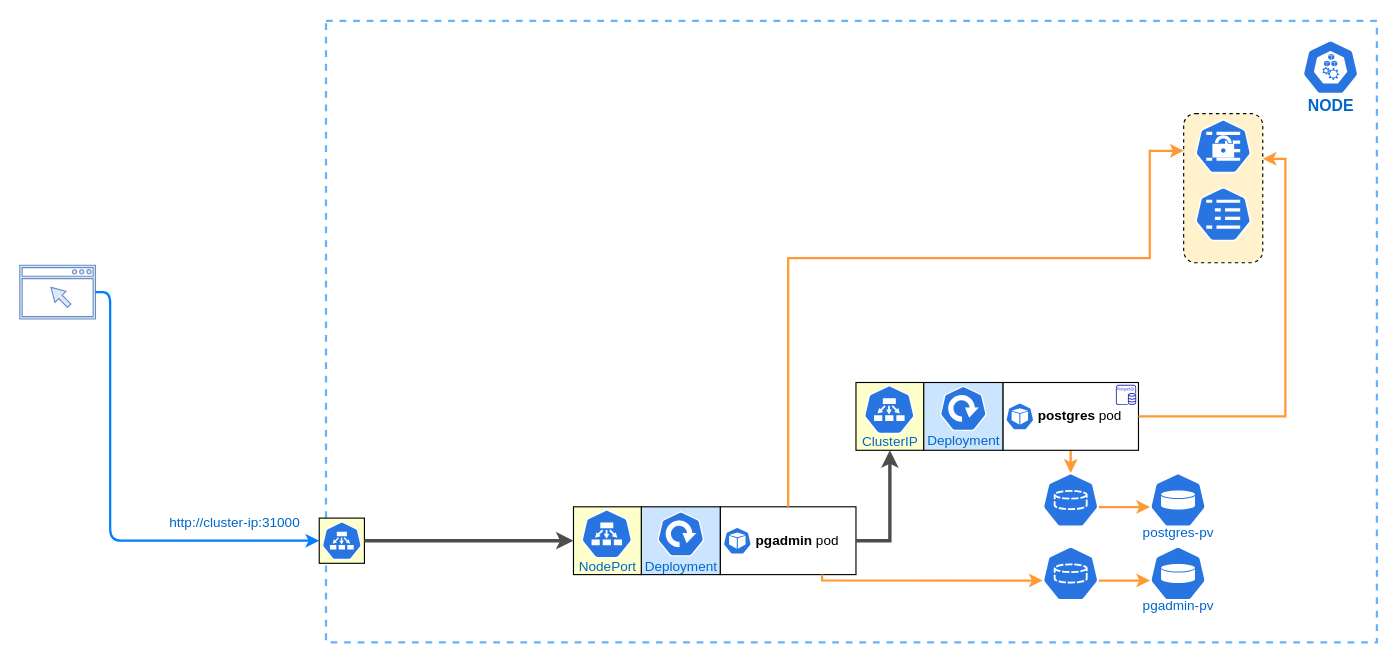
Some shapes in this 1398 by 662 pixel diagram are drawn without their labels. Each missing label, with the centre of its shape:
ConfigMap: pixel 1222 213
pgadmin pvc: pixel 1070 573
postgres pvc: pixel 1070 499
Secrets: pixel 1222 145
